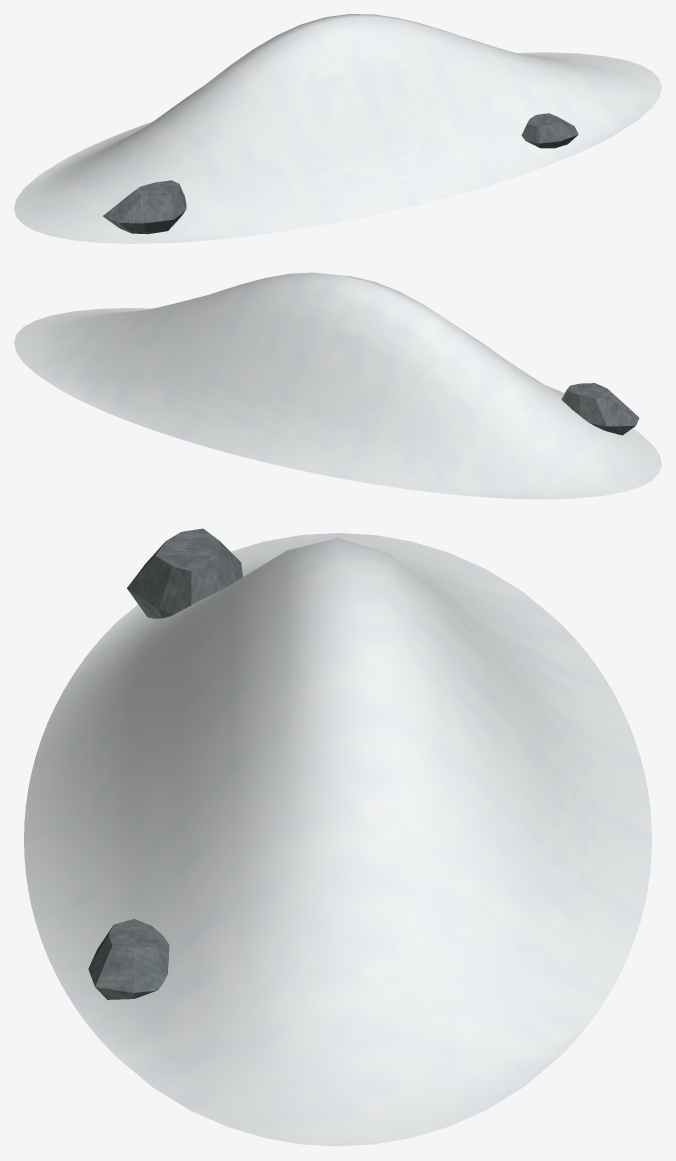
The picture shows the model from 3 angles, top to bottom: view 1: azimuth 30°, elevation 25°; view 2: azimuth 150°, elevation 25°; view 3: azimuth 270°, elevation 25°; orthographic projection. The views are drawn at different scales.
Visible parts, largest first — view 1: Mesh_snow, Mesh_rock; view 2: Mesh_snow, Mesh_rock; view 3: Mesh_snow, Mesh_rock.
Boxes of the visible parts, x1,y1,x2,y2 form: Mesh_snow: [14, 14, 661, 243]; Mesh_rock: [103, 113, 578, 234]; Mesh_snow: [14, 272, 661, 499]; Mesh_rock: [561, 383, 639, 435]; Mesh_snow: [24, 533, 651, 1146]; Mesh_rock: [88, 528, 242, 999].
Bounding box in the file's own units: 3.56 × 0.6966 × 1.54.
Materials: 2 (2 with a texture image).
